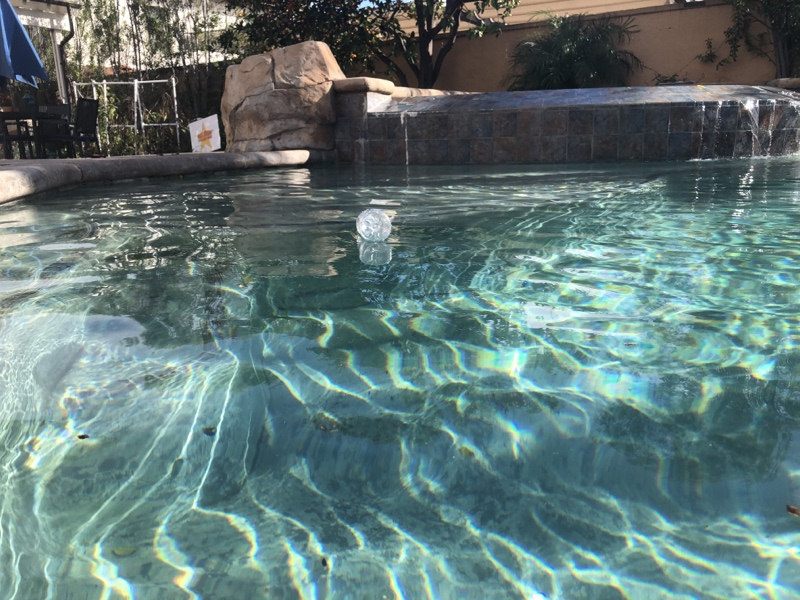Plastic Bottle: (353, 207, 393, 245)
